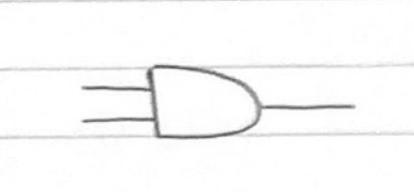AND: (138, 55, 276, 149)
